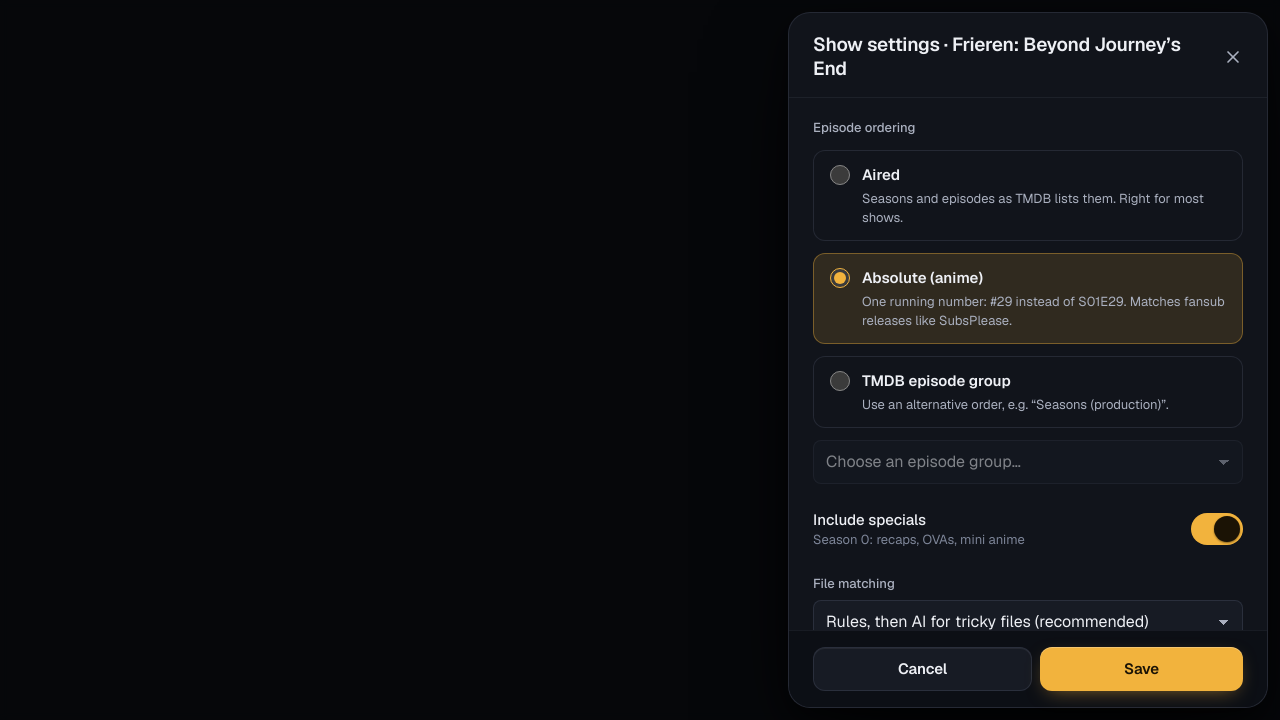
Test: ShowSettingsSheet › saves the PATCH, then closes
The width and height of the screenshot is (1280, 720).
Expected: the dialog is shown, [788, 12, 1268, 708]
Click the radio button labelled "TMDB episode group": (840, 381) [830, 371, 850, 391]
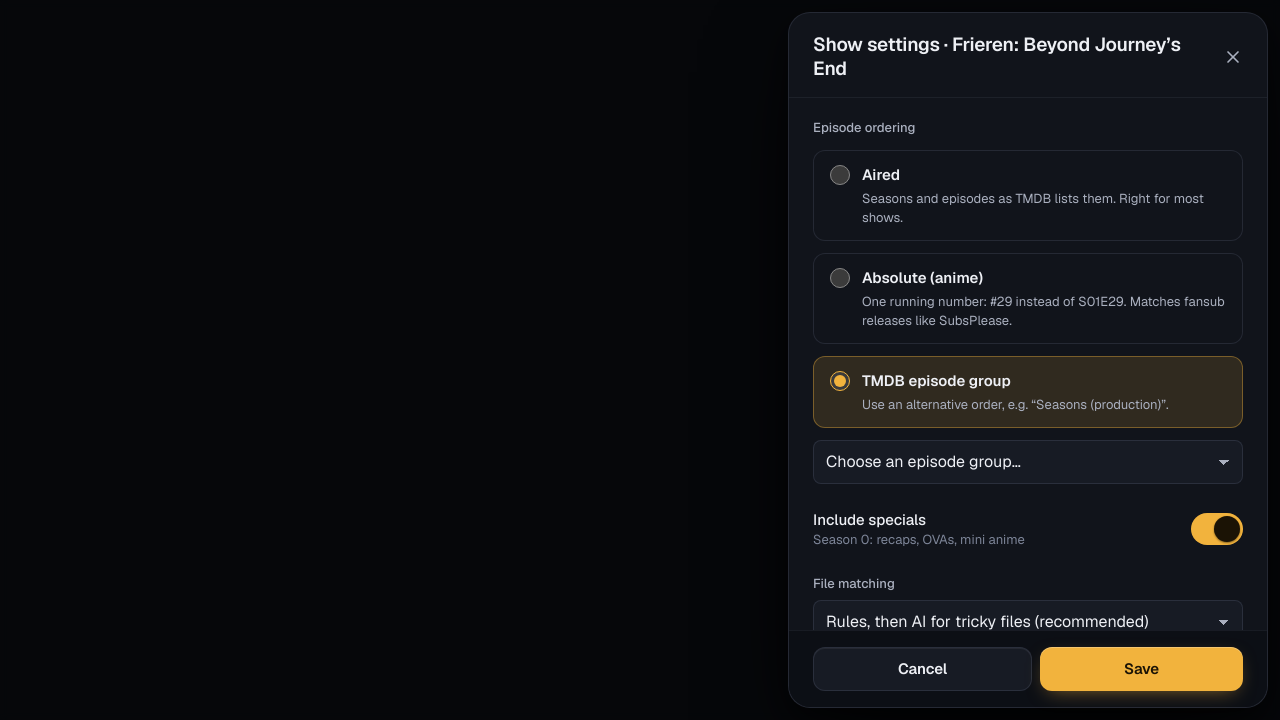
Select "Cours · 38 episodes" in the dropdown named "Episode group": (1028, 462) [813, 440, 1243, 484]
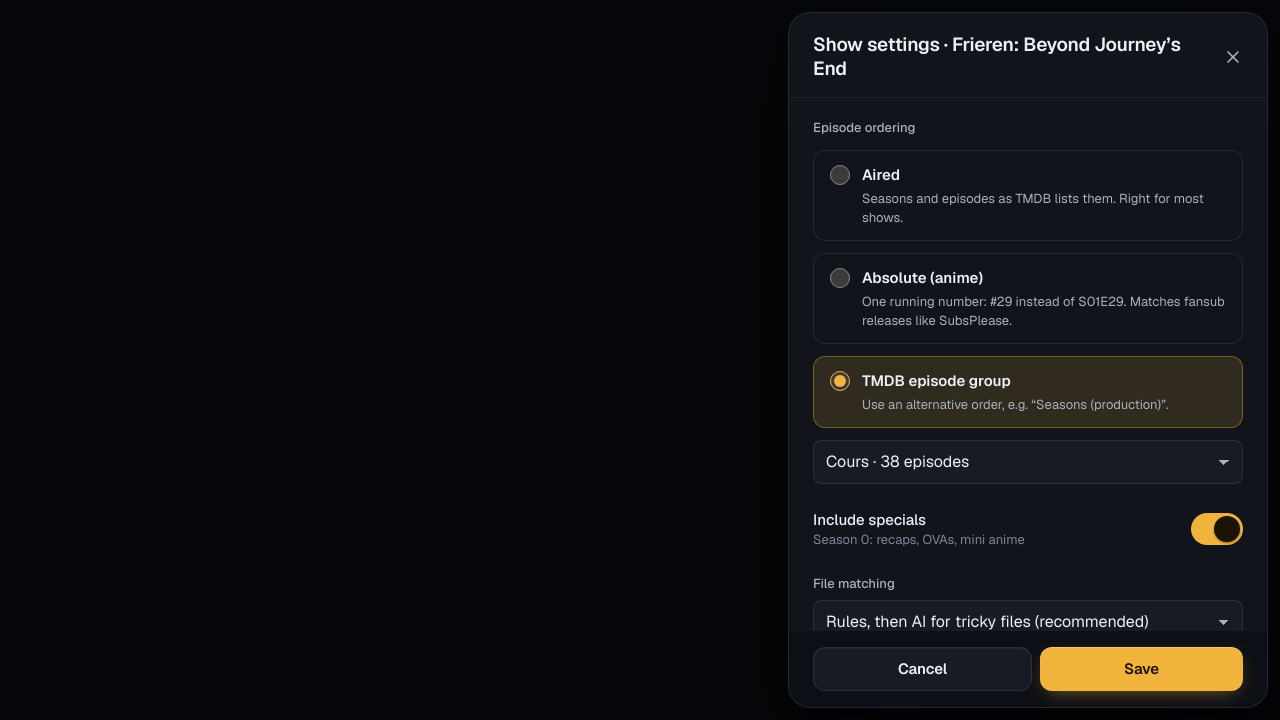
Click the switch labelled "Include specials": (870, 520) [813, 510, 926, 529]
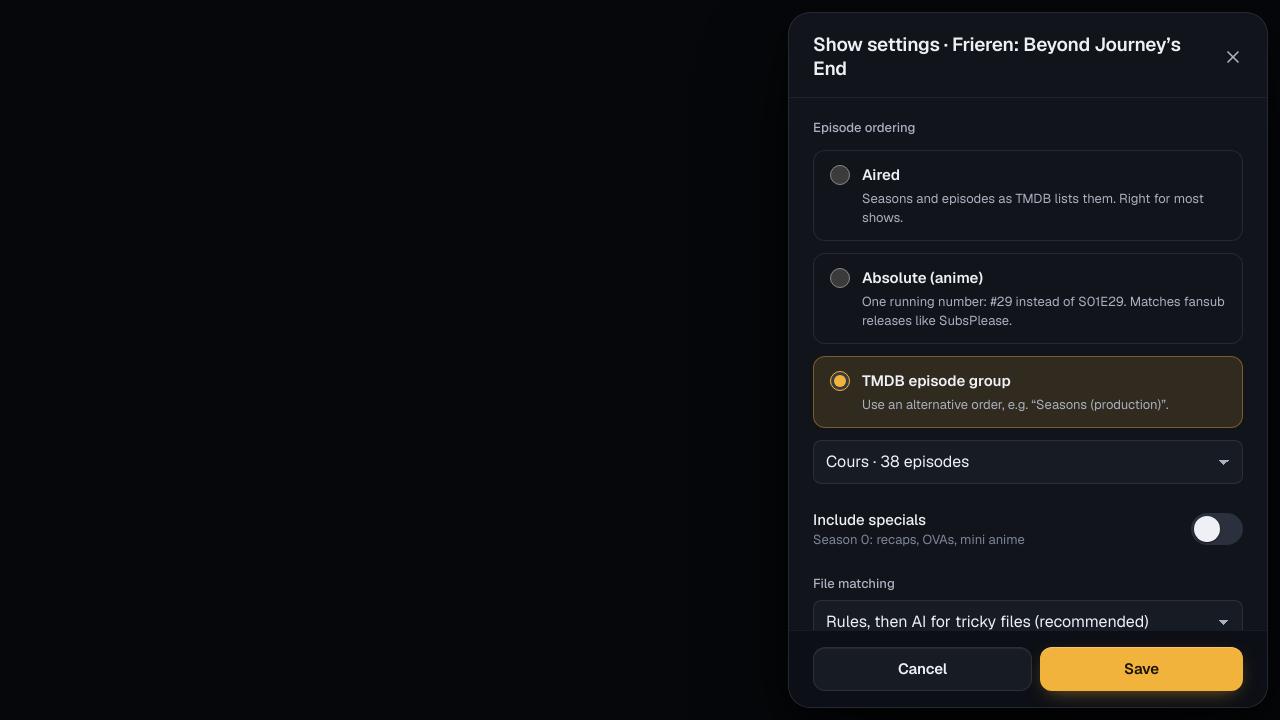
Select "Rules only" in the dropdown labelled "File matching": (1028, 622) [813, 600, 1243, 644]
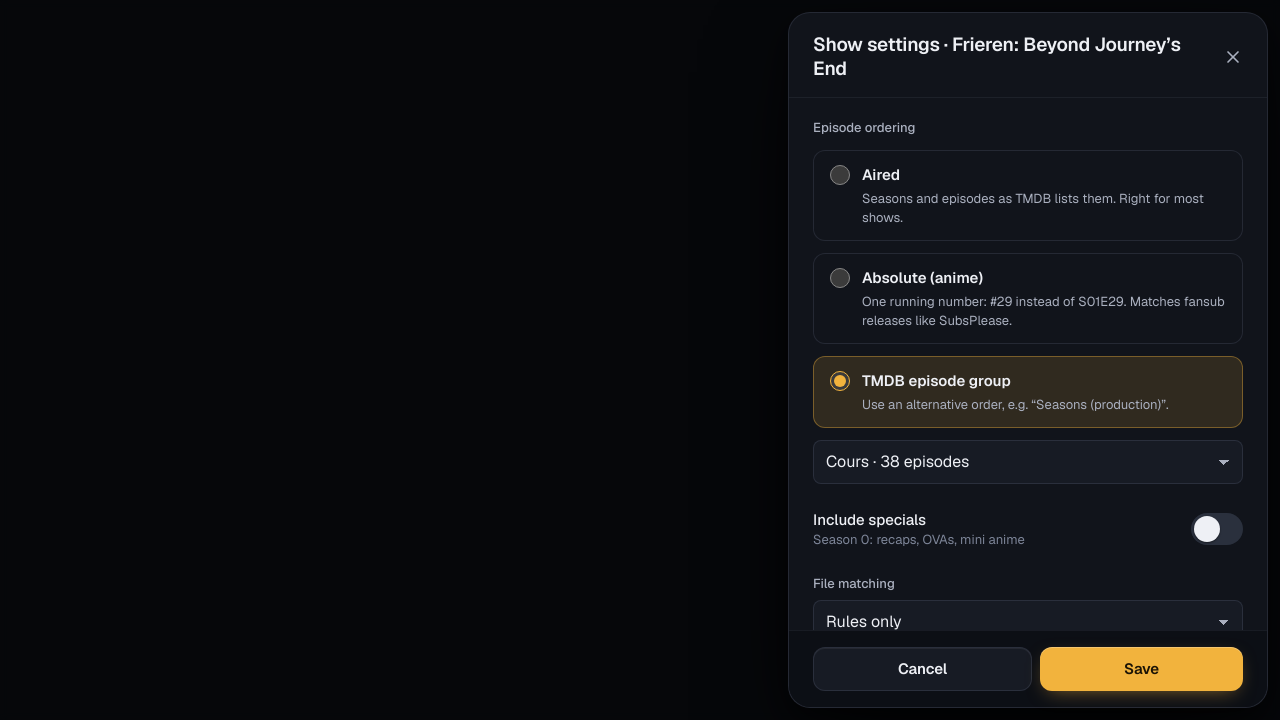
Click the button "Save": (1142, 669) [1040, 647, 1243, 691]
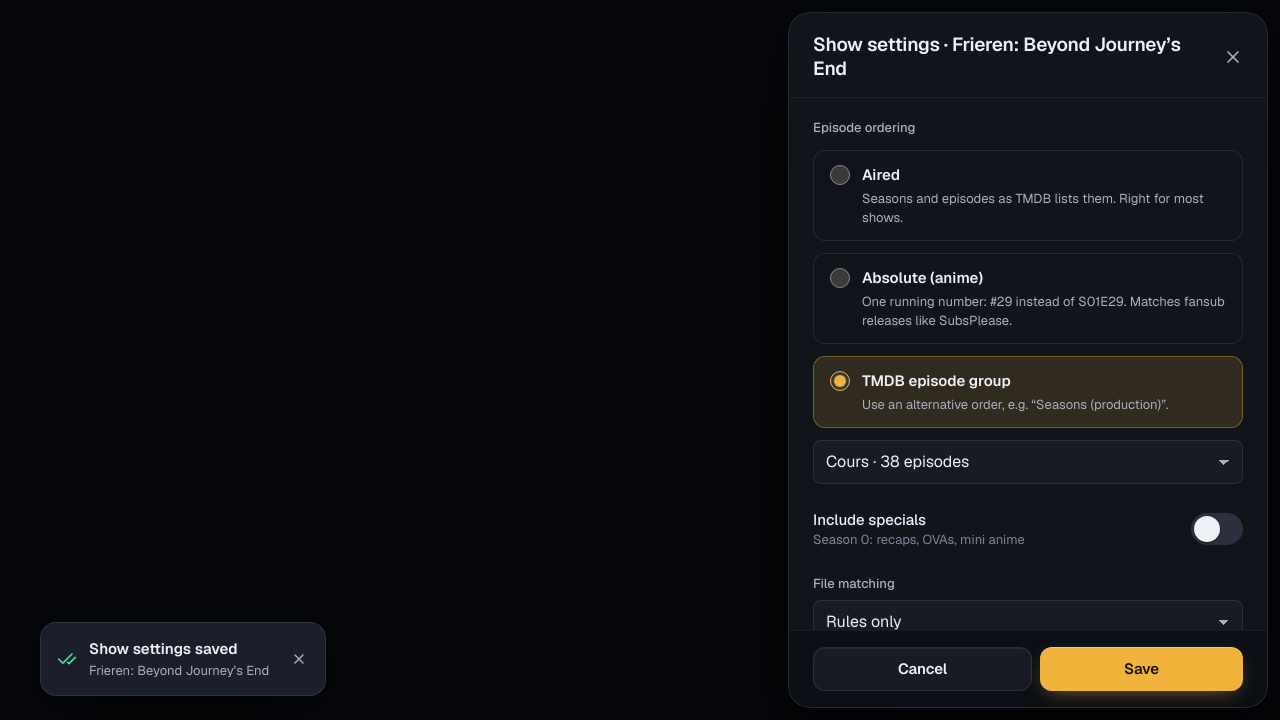
Now the text "Show settings saved" is shown, box [89, 639, 238, 658]
